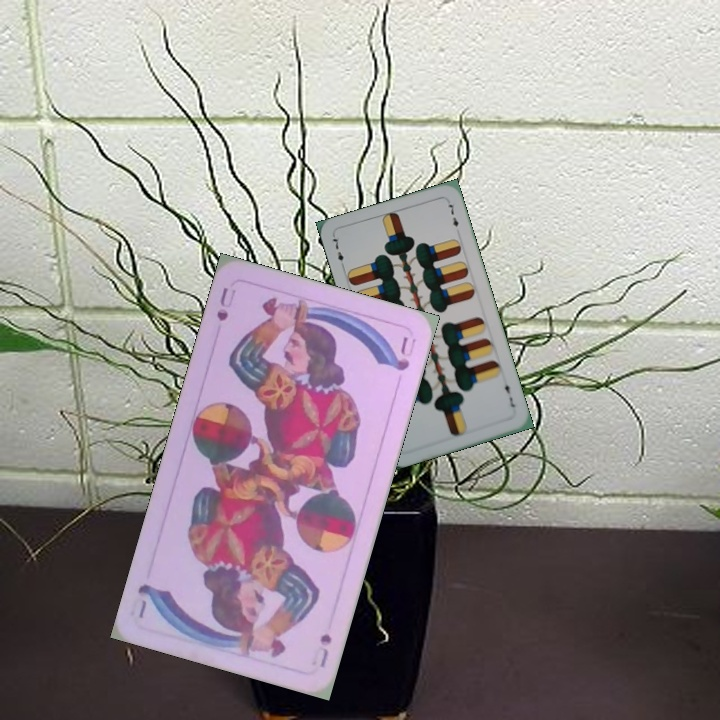E7: (500, 376, 518, 410), (329, 232, 346, 263)
SU: (212, 283, 239, 324), (311, 629, 334, 670)
